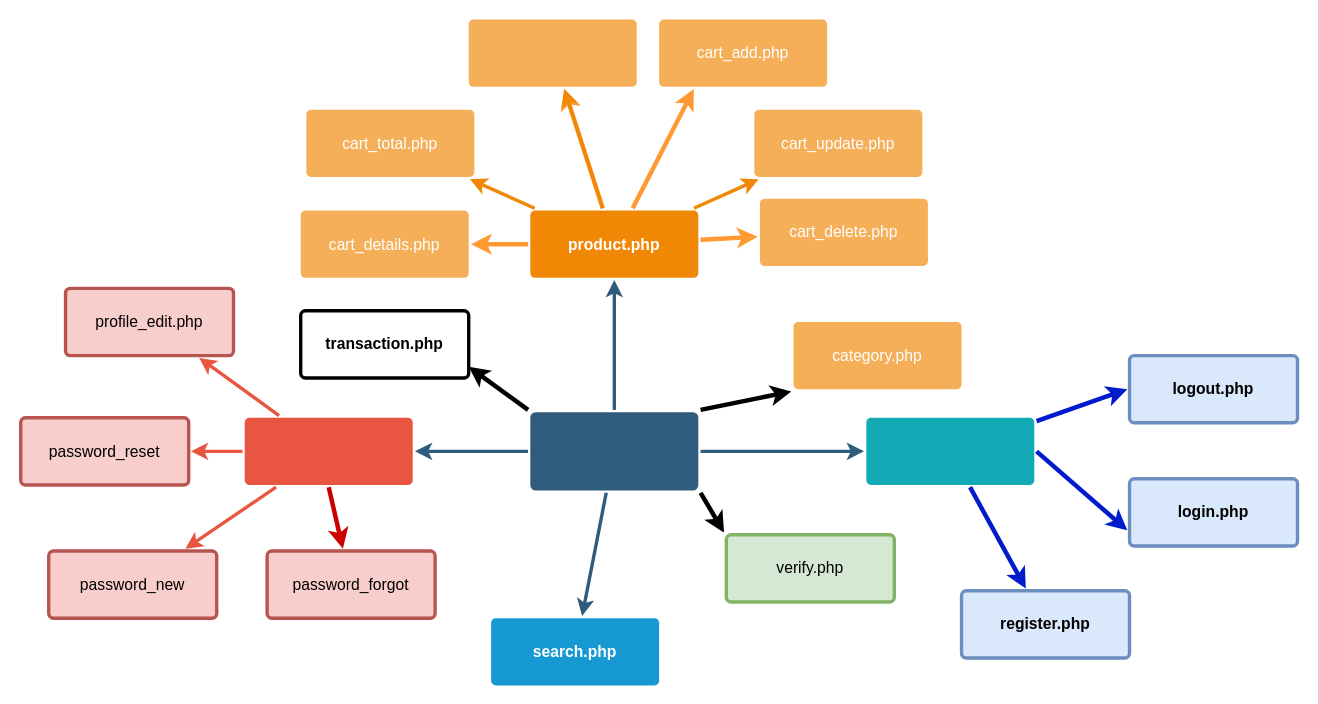
This 1318x704 diagram has some shape labels left out. The centre of each missing label's shape, as x and y in pixels:
"Backend" goes at [614,451].
"cart_view.php" goes at [552,52].
"profile.php" goes at [328,450].
"signup.php" goes at [950,450].
